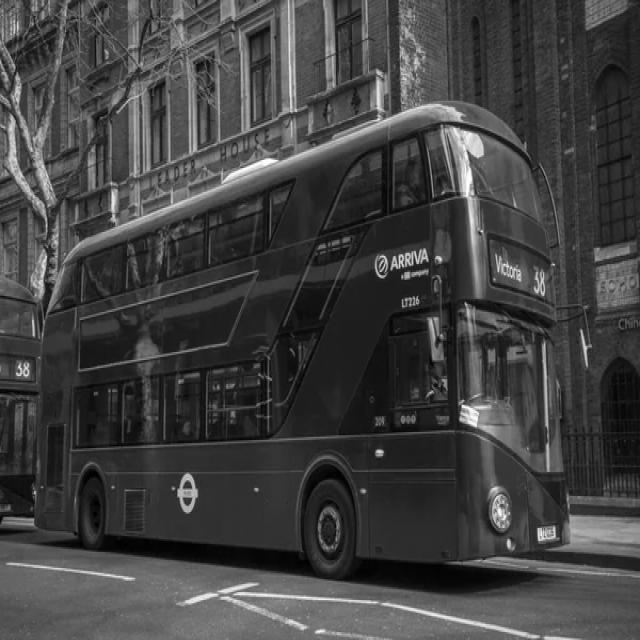Bus: (36, 101, 570, 578)
